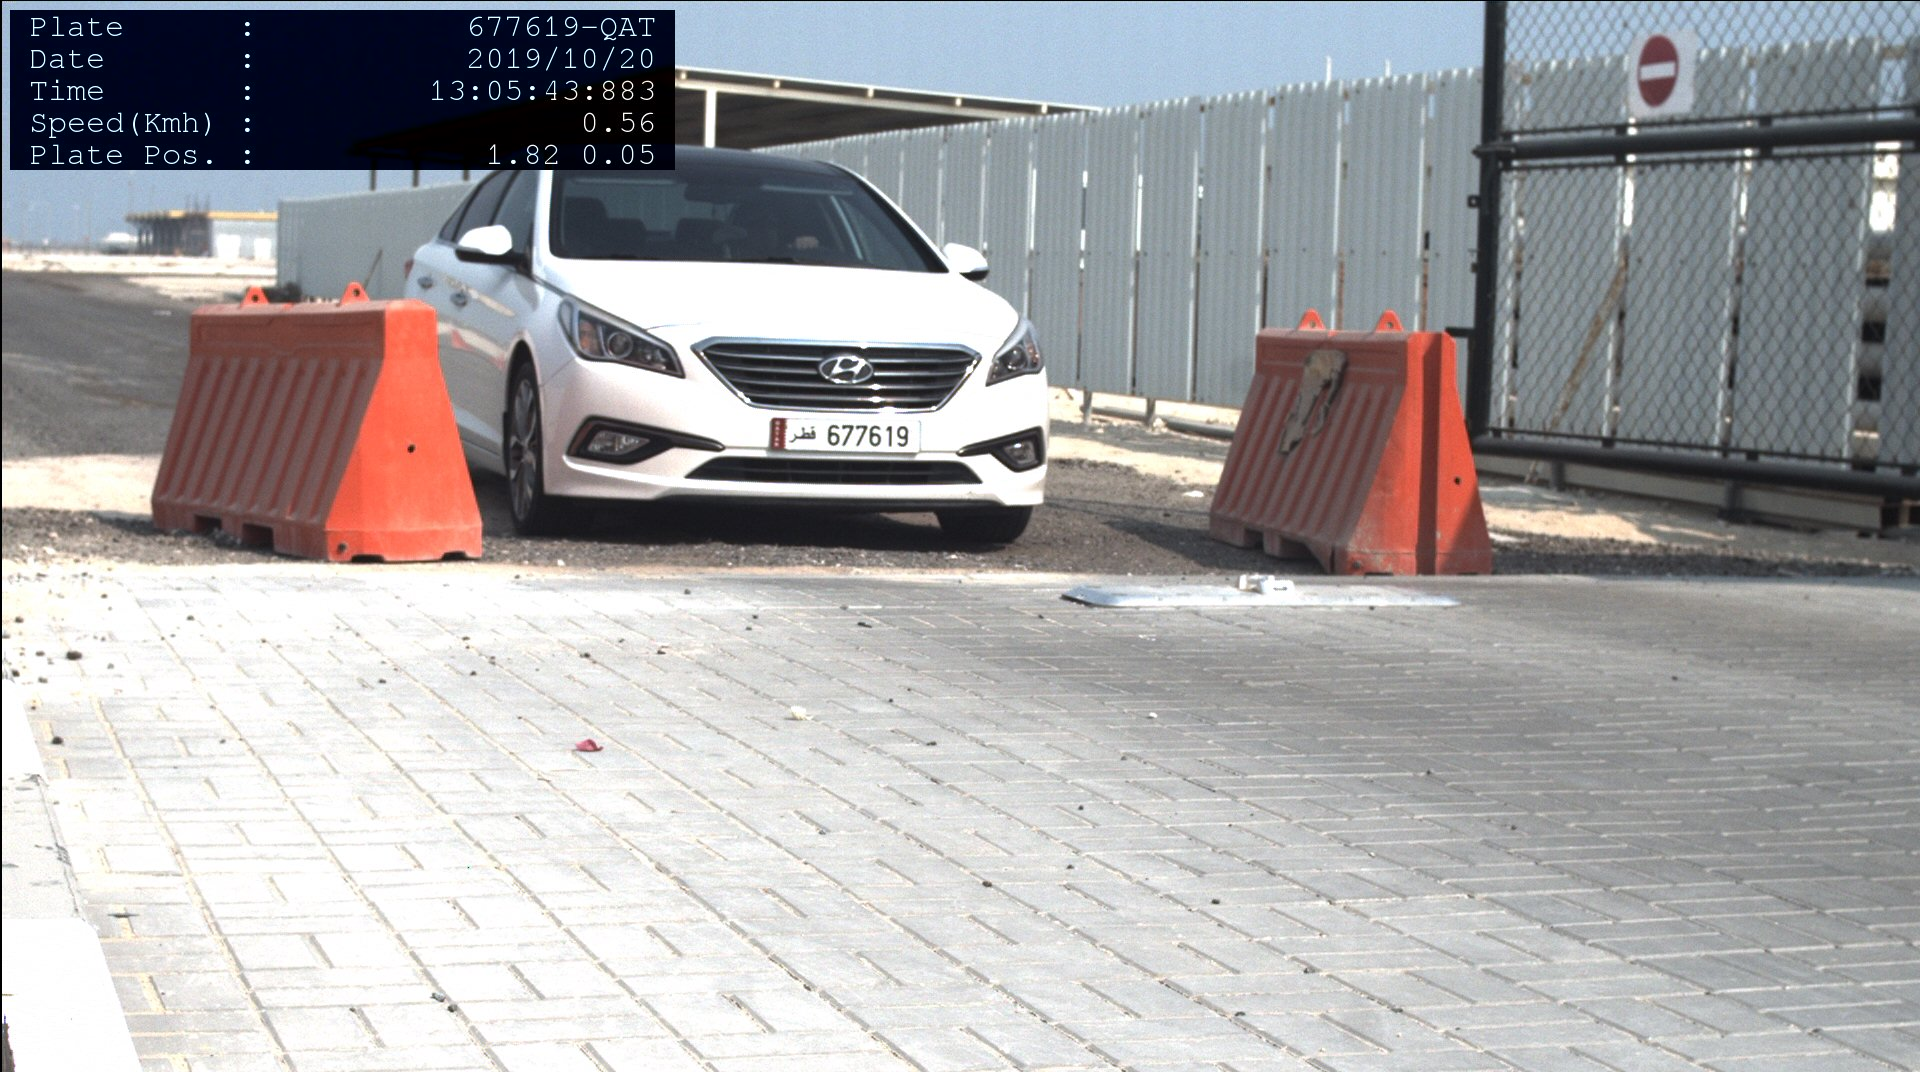License Plate: (772, 421, 921, 452)
